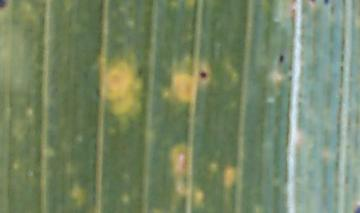tarspot: (199, 70, 208, 80), (353, 204, 360, 213), (278, 54, 284, 64), (1, 1, 6, 10), (323, 1, 329, 5)
